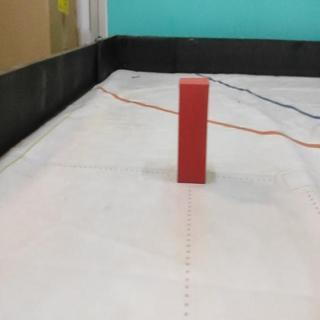redbox: (178, 77, 209, 185)
